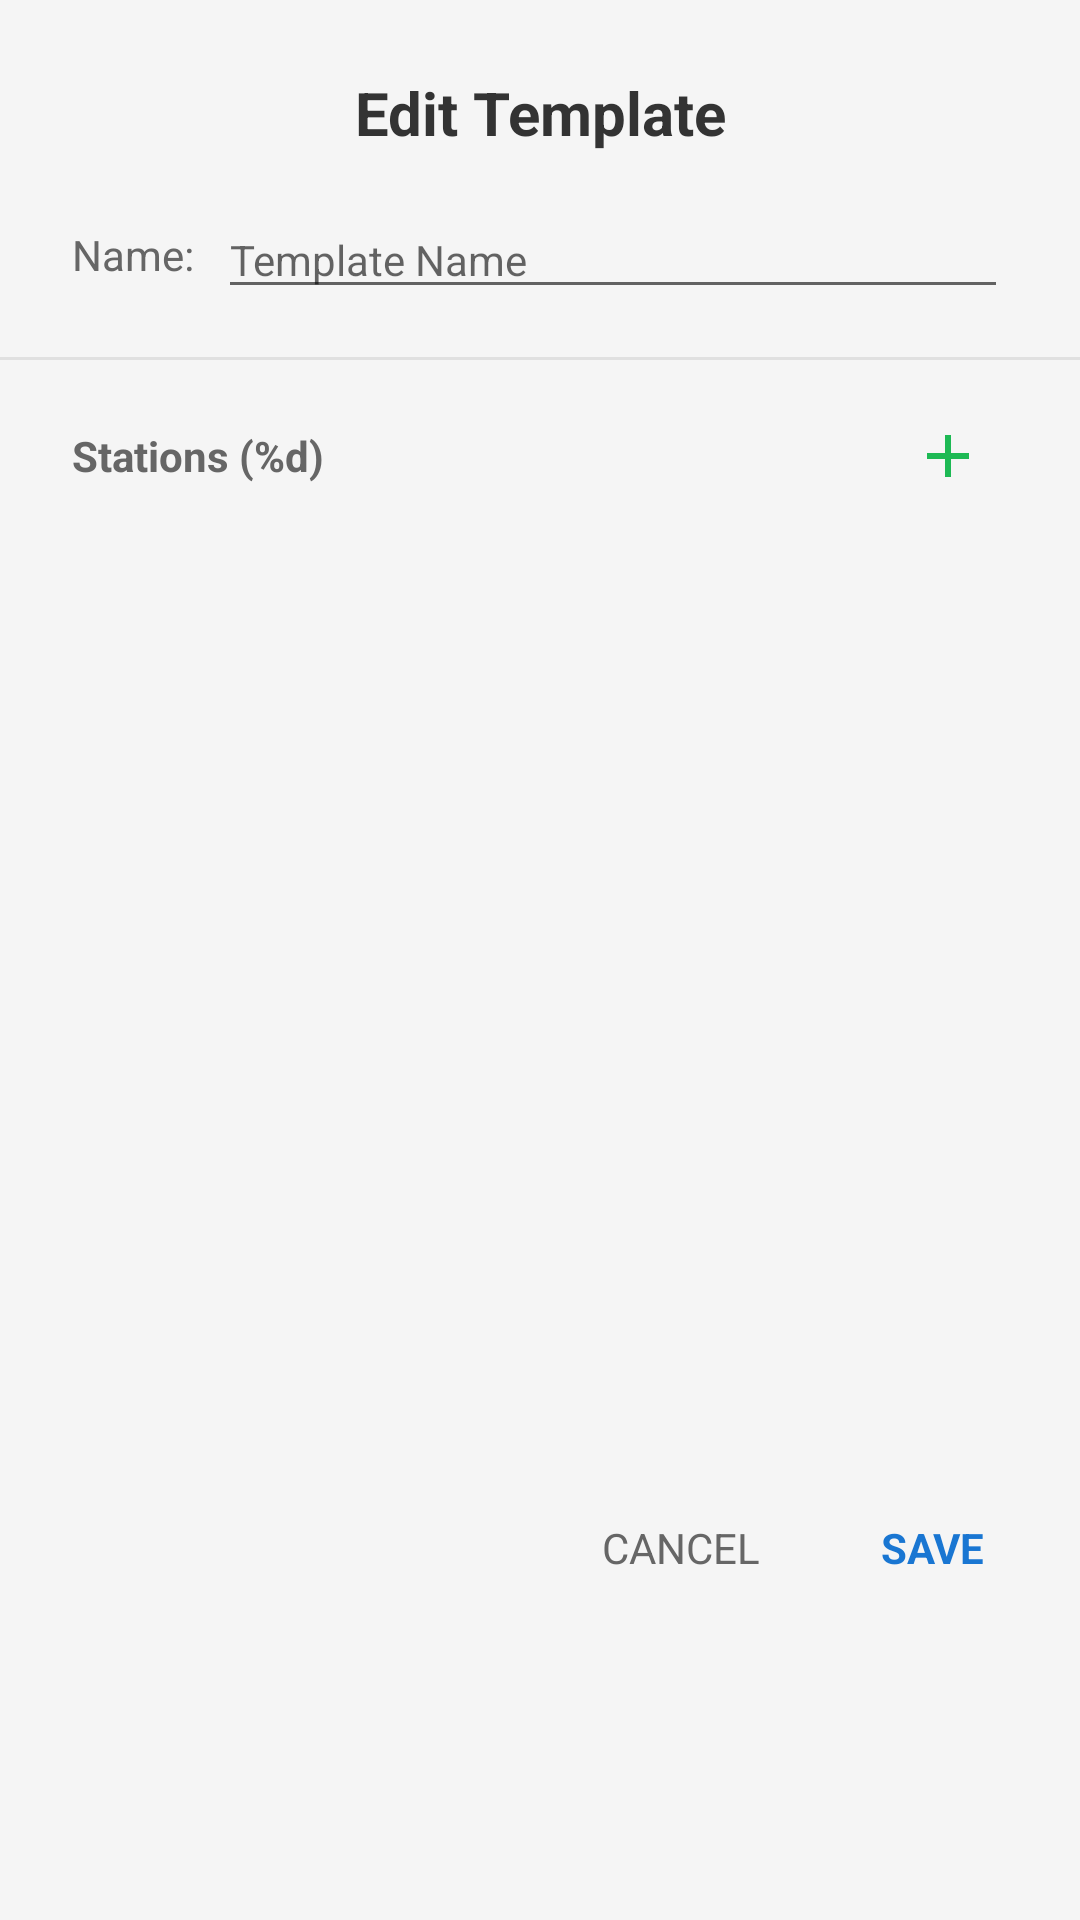

Screen size 1080w x 1920h. Icon name, then its box in pixels as (x1, y1, x2, y2):
Add station: (927, 435, 969, 477)
